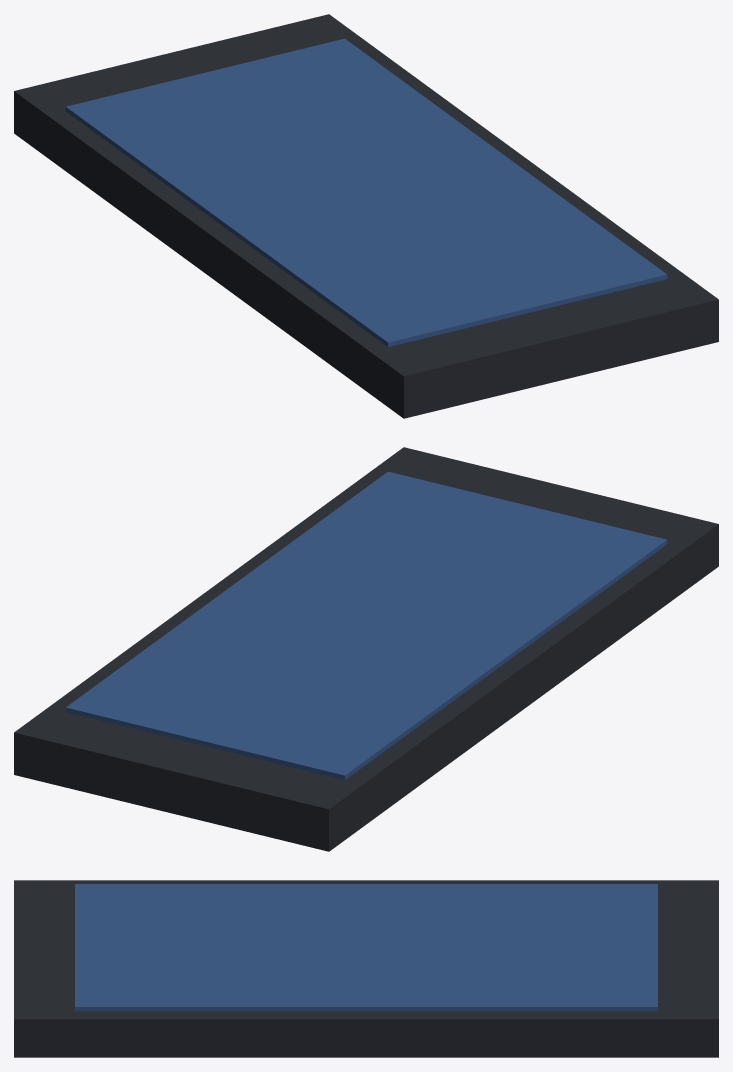
The model's file is phone.glb.
3 views of the same model, one above another, from view 1: azimuth 30°, elevation 25°; view 2: azimuth 150°, elevation 25°; view 3: azimuth 270°, elevation 25° (orthographic). The views are drawn at different scales.
Parts seen in each view (by area): view 1: phone_mesh; view 2: phone_mesh; view 3: phone_mesh.
Part boxes in pixels (x1,y1,x2,y2): phone_mesh: [14, 14, 718, 418]; phone_mesh: [14, 447, 718, 851]; phone_mesh: [14, 880, 718, 1057].
Bounding box in the file's own units: 0.07 × 0.01 × 0.15.
Materials: 1 (1 with a texture image).
